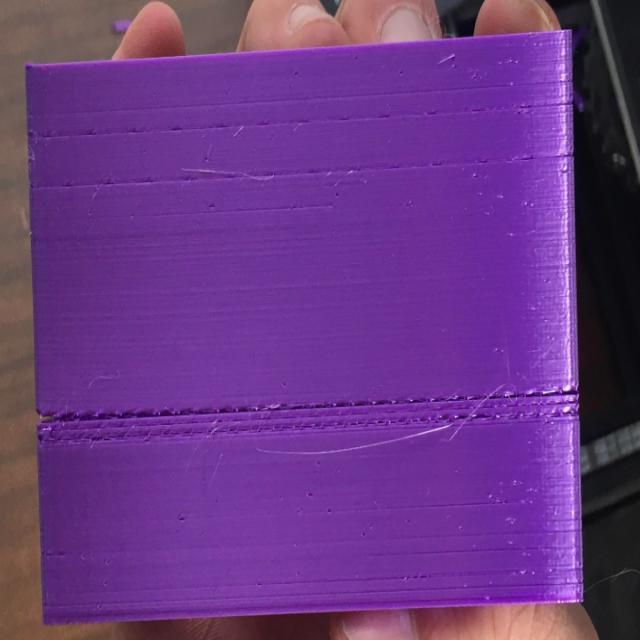cracks: (34, 384, 581, 450)
